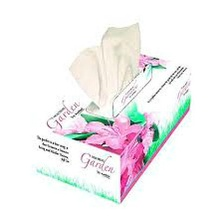book: (25, 47, 197, 209)
tissue: (61, 13, 147, 115)
